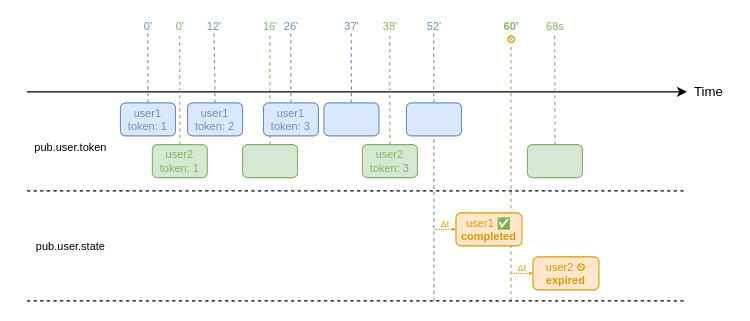
Image size: 750x321. Some labels were removed from this diagram. Each missing label, with the centre of its shape:
"user1 token: 4" goes at (351,119).
"user1 token: 5" goes at (433,119).
"user2 token: 2" goes at (269,161).
"user2 token: 4" goes at (554,161).
